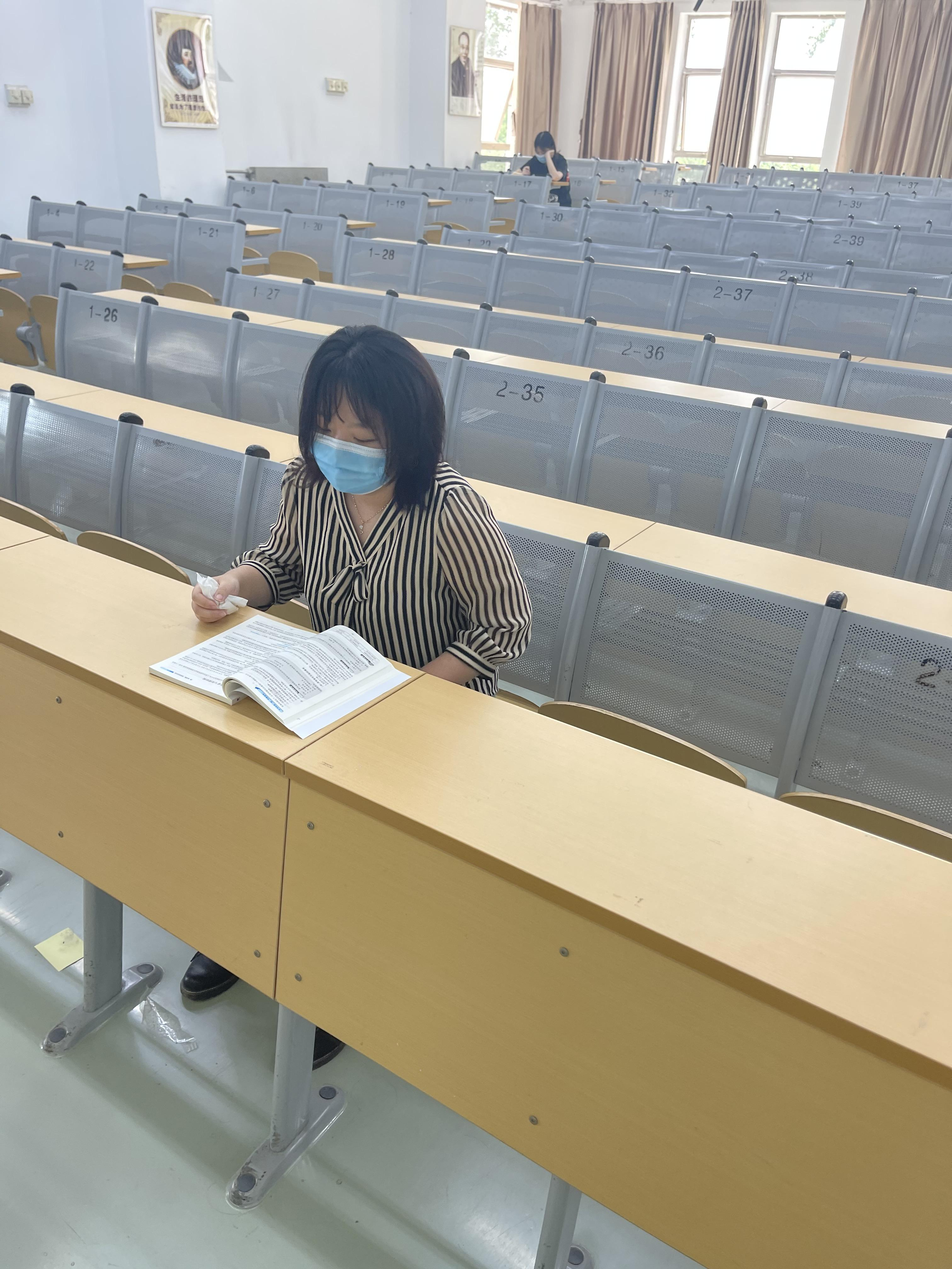study: (191, 319, 534, 670)
